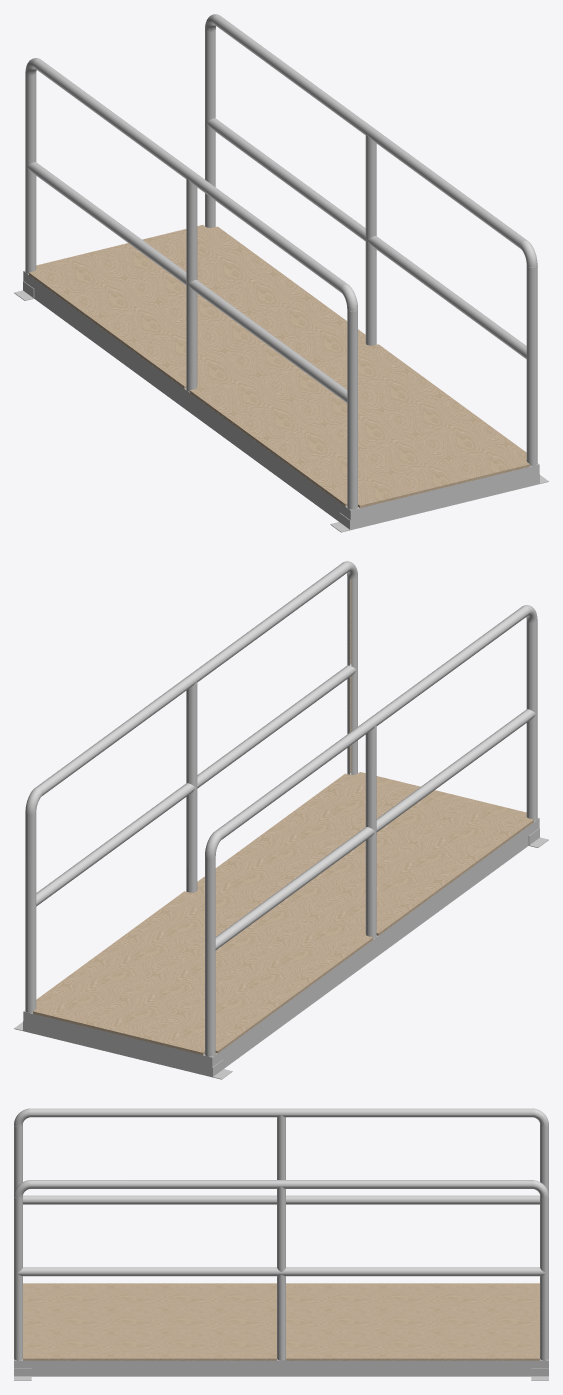
File: paso-gato-opt.glb
3 renders of one model, top to bottom at view 1: azimuth 30°, elevation 25°; view 2: azimuth 150°, elevation 25°; view 3: azimuth 270°, elevation 25°, orthographic. The views are drawn at different scales.
Size of the model in its own units: 1.1 by 1.2 by 3.
4 materials, 2 textured.
